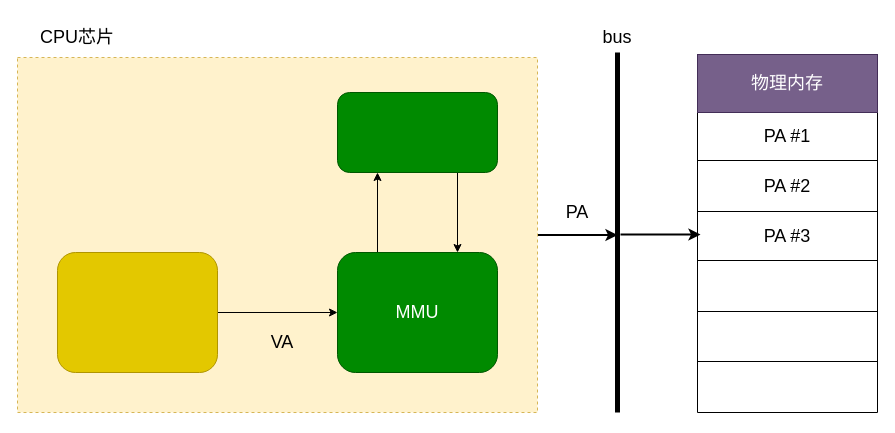
The diagram is 895 pixels wide and 433 high, and some of its shapes have lost their labels. The shapes that lost their labels are listed below. From the top down, each one's centre as x and y in pixels, then its label:
[417,132]: TLB
[137,312]: CPU
